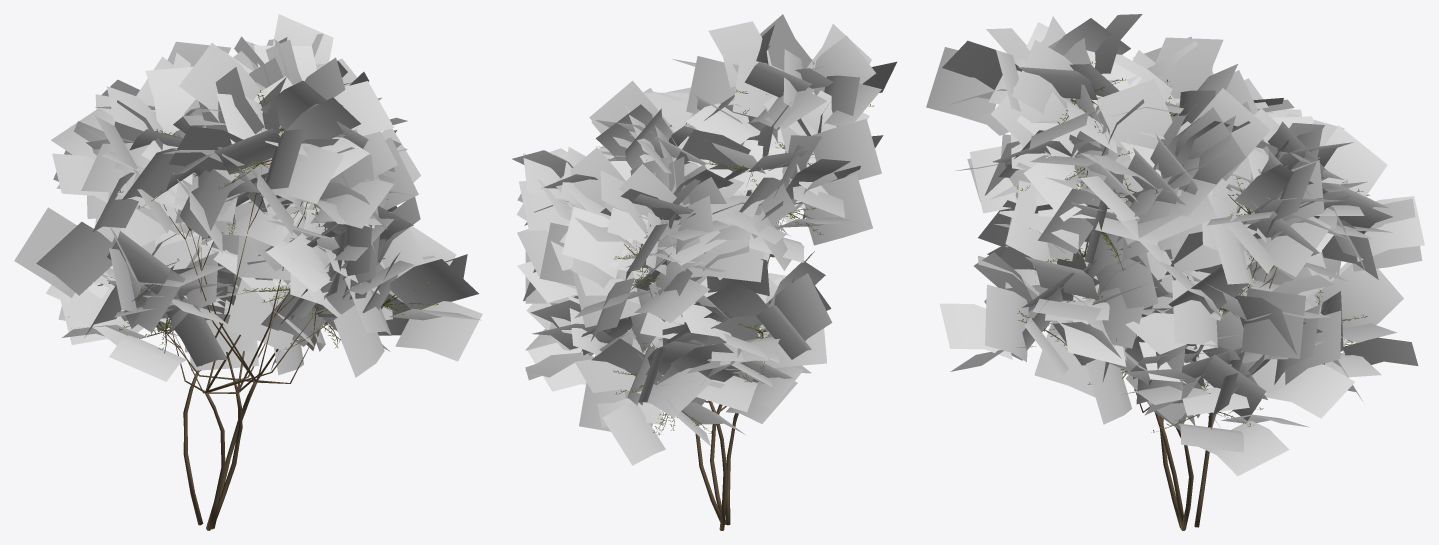
The model's file is Bruyere_Dense_LOD0.fbx.
3 renders of one model, left to right at view 1: azimuth 30°, elevation 25°; view 2: azimuth 150°, elevation 25°; view 3: azimuth 270°, elevation 25°, orthographic. The views are drawn at different scales.
Visible parts, largest first — view 1: Bruyere_Dense; view 2: Bruyere_Dense; view 3: Bruyere_Dense.
Boxes of the visible parts, left/top/right/bottom form: Bruyere_Dense: left=14, top=14, right=482, bottom=530; Bruyere_Dense: left=512, top=14, right=896, bottom=530; Bruyere_Dense: left=926, top=14, right=1424, bottom=530.
Size of the model in its own units: 241 by 339 by 303.
